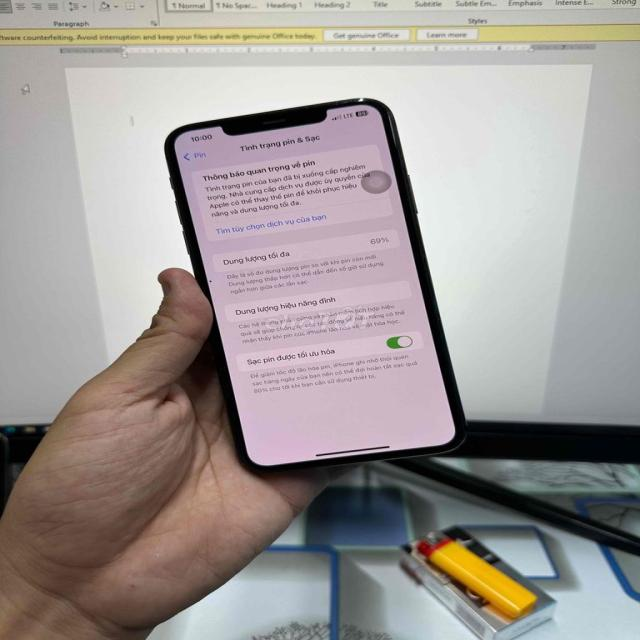gen_11: (162, 94, 476, 474)
